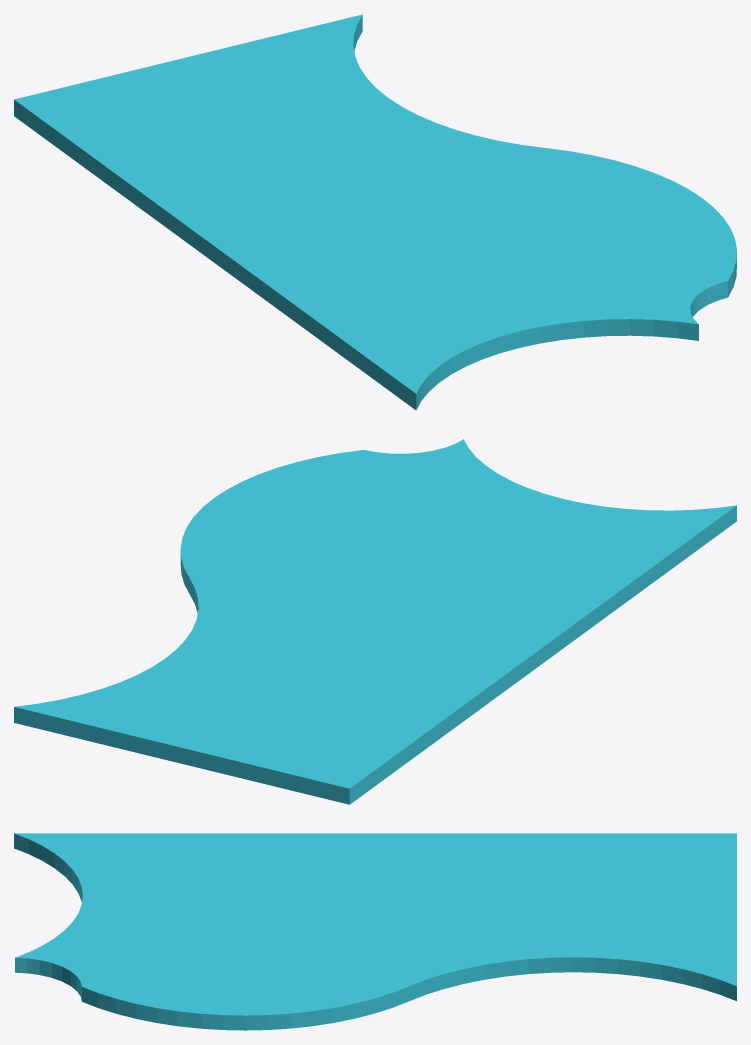
The picture shows the model from 3 angles, top to bottom: view 1: azimuth 30°, elevation 25°; view 2: azimuth 150°, elevation 25°; view 3: azimuth 270°, elevation 25°; orthographic projection. The views are drawn at different scales.
Visible parts, largest first — view 1: deur2; view 2: deur2; view 3: deur2.
Part boxes in pixels (x1,y1,x2,y2): deur2: (14, 14, 736, 410); deur2: (14, 439, 736, 804); deur2: (14, 833, 736, 1030).
Size of the model in its own units: 0.469 by 0.018 by 0.787.
